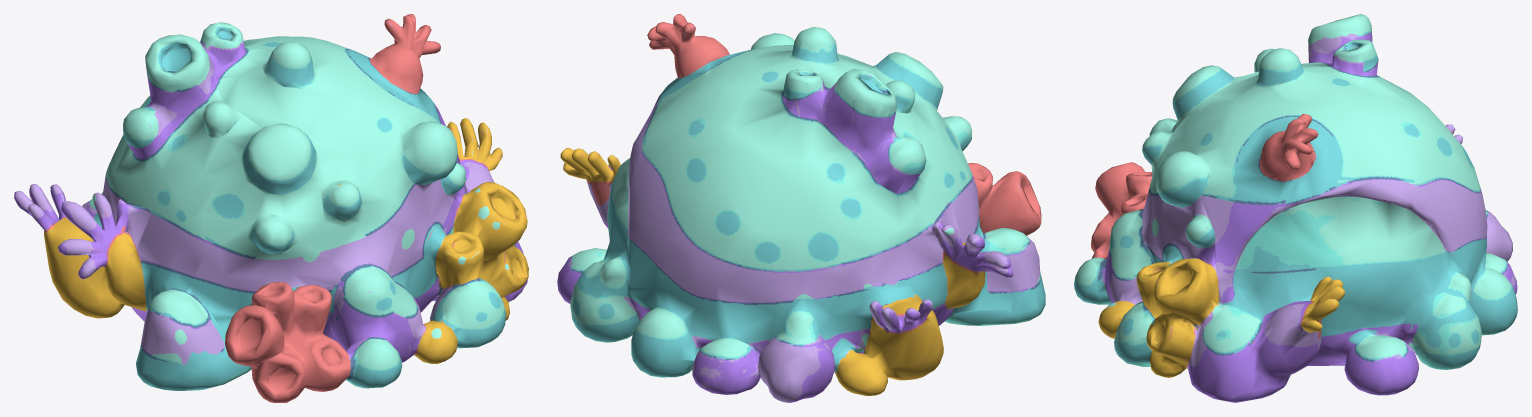
Rendered from rock2.glb.
3 renders of one model, left to right at view 1: azimuth 30°, elevation 25°; view 2: azimuth 150°, elevation 25°; view 3: azimuth 270°, elevation 25°, orthographic. The views are drawn at different scales.
Visible parts, largest first — view 1: Mesh_0; view 2: Mesh_0; view 3: Mesh_0.
Part boxes in pixels (bbox=[...]): Mesh_0: bbox=[14, 14, 528, 402]; Mesh_0: bbox=[557, 14, 1045, 402]; Mesh_0: bbox=[1074, 14, 1517, 402].
Bounding box in the file's own units: 1.9 × 1.1 × 1.73.
Materials: 1 (1 with a texture image).
